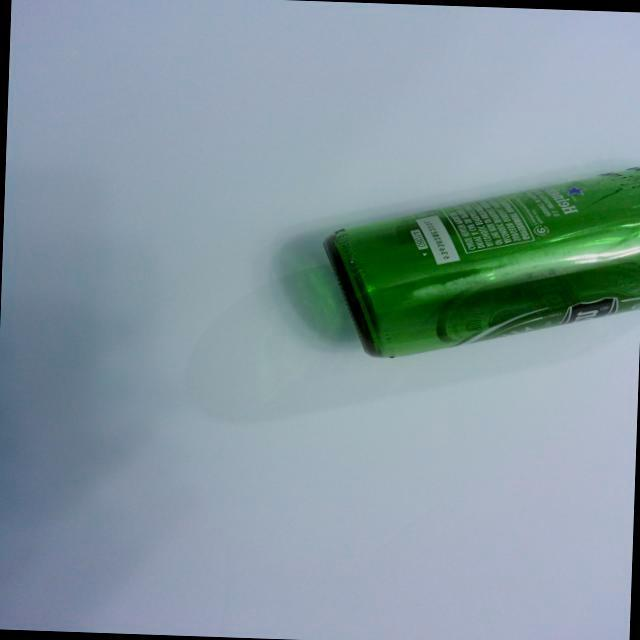glass: (306, 144, 640, 371)
